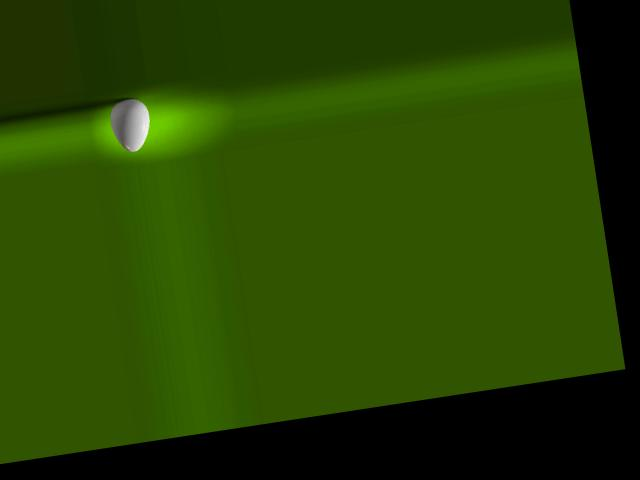egg: (107, 96, 154, 155)
